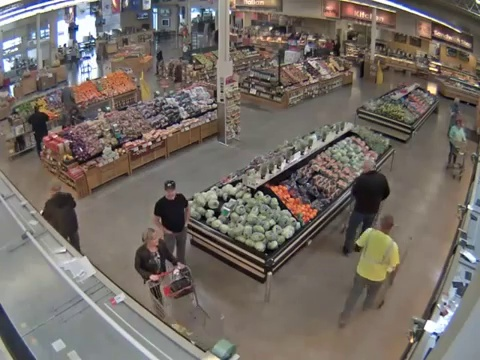face: (164, 186, 175, 199), (149, 234, 158, 245), (455, 121, 462, 128)
